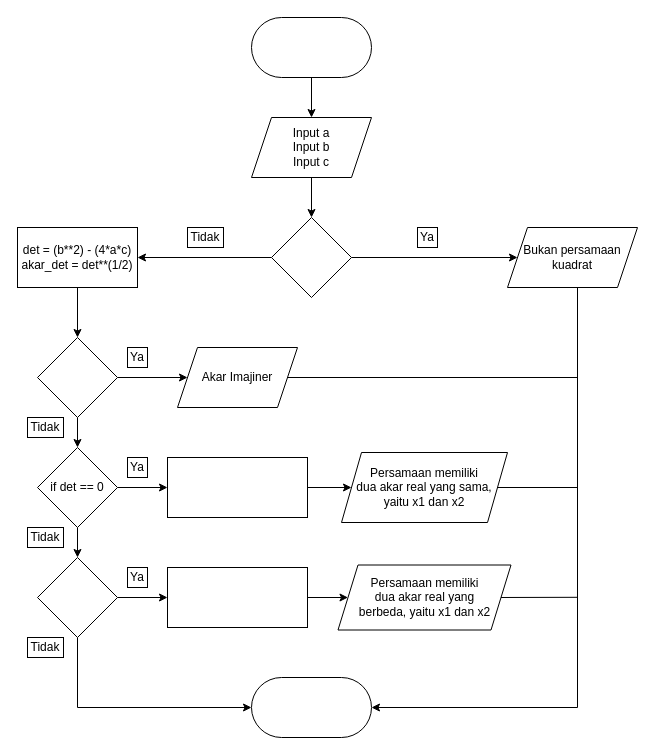
The diagram is 655 pixels wide and 755 high, and some of its shapes have lost their labels. The shapes that lost their labels are listed below. From the top down, each one's centre as x and y in pixels, then its label:
At [311,47]: "Start".
At [311,257]: "If a == 0".
At [77,377]: "if det < 0".
At [237,487]: "x1 = (-b + akar_det) / 2*a x2 = x1".
At [77,597]: "if det > 0".
At [237,597]: "x1 = (-b + akar_det) / 2*a x2 = (-b - akar_det) / 2*a".
At [311,707]: "End".
